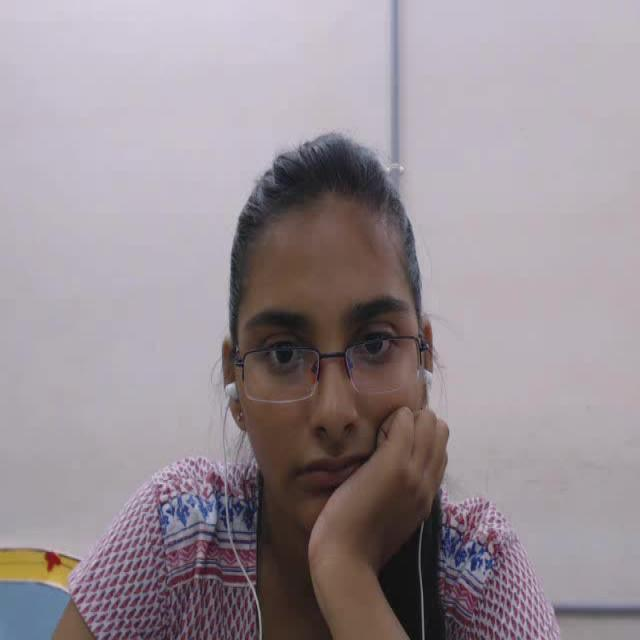Bored: (198, 116, 486, 556)
